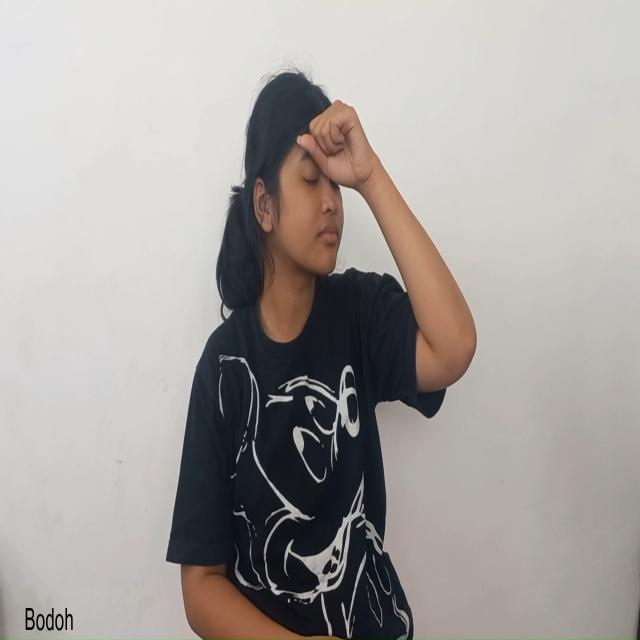Bodoh -BISINDO-: (241, 67, 478, 336)
